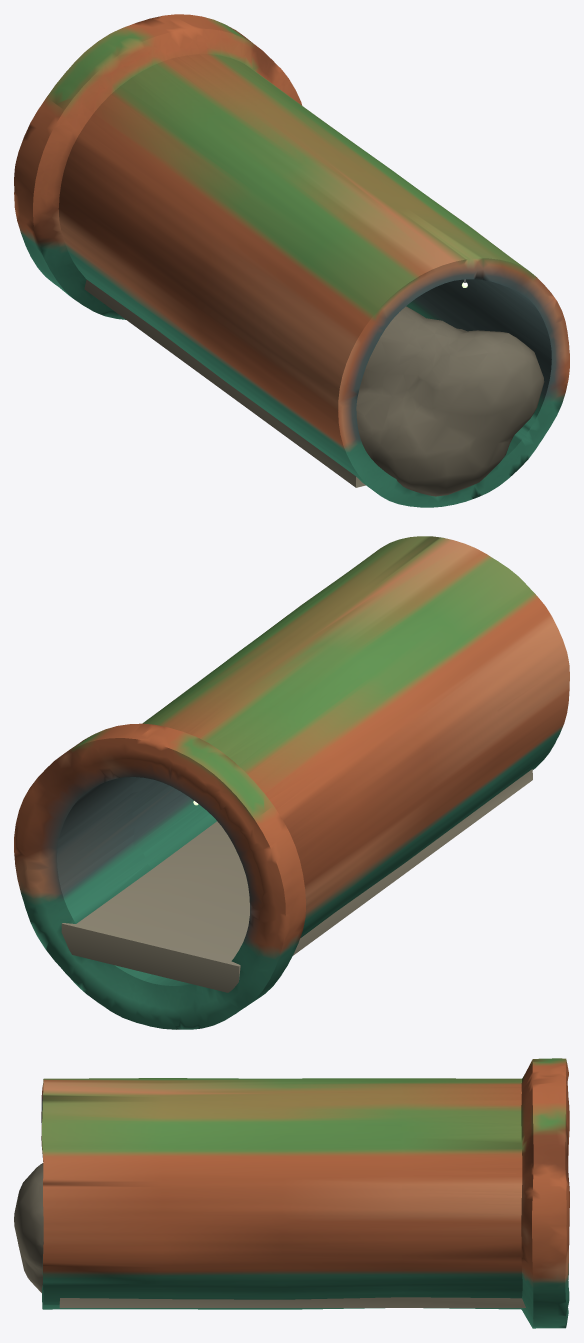
The model's file is grotto_drain_pipe.glb.
3 views of the same model, one above another, from view 1: azimuth 30°, elevation 25°; view 2: azimuth 150°, elevation 25°; view 3: azimuth 270°, elevation 25° (orthographic). The views are drawn at different scales.
Visible parts, largest first — view 1: grotto_drain_pipe; view 2: grotto_drain_pipe; view 3: grotto_drain_pipe.
Boxes of the visible parts, x1,y1,x2,y2 form: grotto_drain_pipe: [14, 14, 569, 507]; grotto_drain_pipe: [14, 536, 569, 1029]; grotto_drain_pipe: [14, 1058, 569, 1328].
Size of the model in its own units: 9.86 by 9.81 by 20.2.
